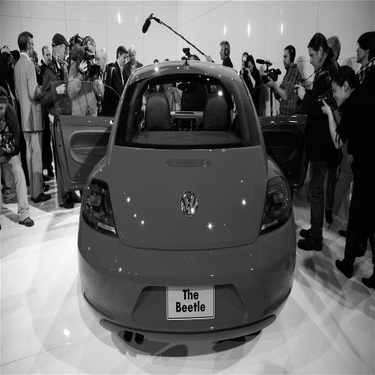car: (40, 54, 317, 363)
